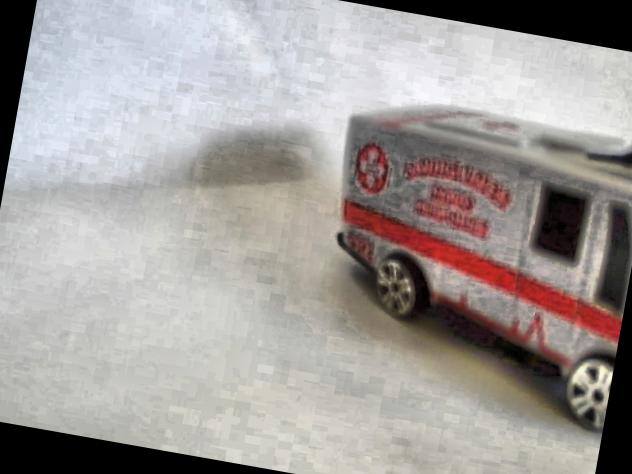ambulance: (303, 86, 632, 433)
